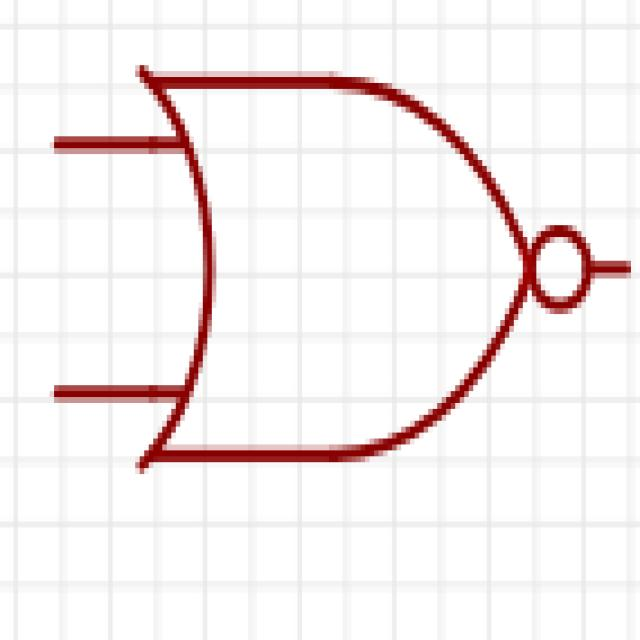nor: (46, 42, 624, 544)
